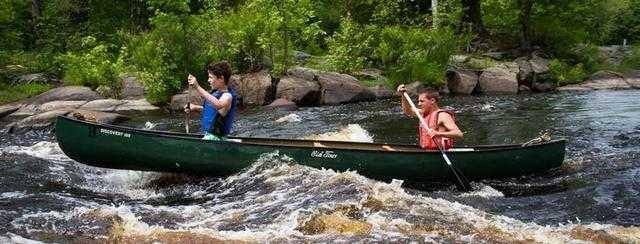kayak: (59, 113, 561, 186)
